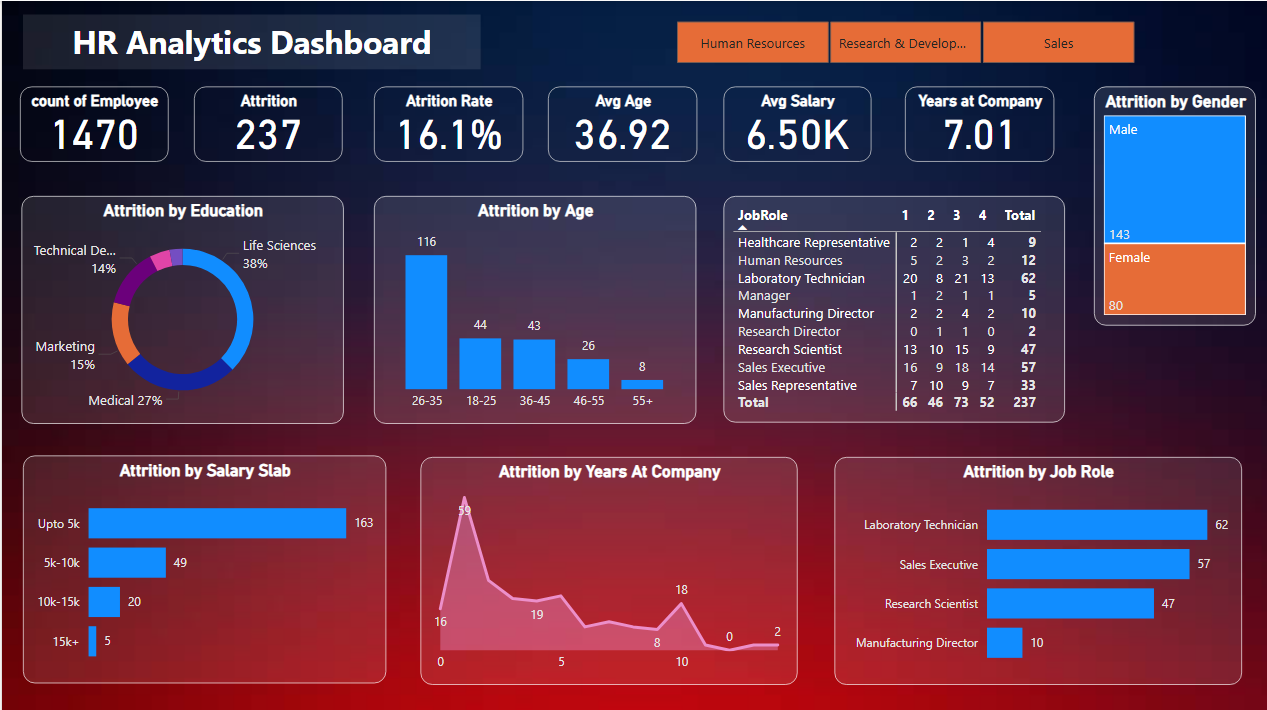

Layout of this report page (visuals, bound fields, positions):
{"tool":"powerbi","page":{"name":"Page 1","canvas":[1280,720],"ordinal":0},"visuals":[{"type":"card","title":"count of Employee","fields":{"Values":["CountNonNull(HR_Analytics.EmpID)"]},"box":[18.6,86.1,149.9,75.7],"z":0},{"type":"card","title":"Attrition","fields":{"Values":["Sum(HR_Analytics.Attritioncount)"]},"box":[194.3,86.1,149.9,75.7],"z":1000},{"type":"card","title":"Atrition Rate","fields":{"Values":["HR_Analytics.Attritionrate"]},"box":[376.2,85.7,150.8,76.2],"z":2000},{"type":"card","title":"Avg Age","fields":{"Values":["Avg(HR_Analytics.Age)"]},"box":[550.8,85.7,150.8,76.2],"z":3000},{"type":"card","title":"Years at Company","fields":{"Values":["Avg(HR_Analytics.YearsAtCompany)"]},"box":[911.1,85.7,150.8,76.2],"z":4000},{"type":"card","title":"Avg Salary","fields":{"Values":["Avg(HR_Analytics.MonthlyIncome)"]},"box":[728.6,85.7,149.2,76.2],"z":5000},{"type":"donutChart","title":"Attrition by Education","fields":{"Category":["HR_Analytics.EducationField"],"Y":["Sum(HR_Analytics.Attritioncount)"]},"box":[19,196.8,325.4,230.2],"z":6000},{"type":"columnChart","title":"Attrition by Age","fields":{"Category":["HR_Analytics.AgeGroup"],"Y":["Sum(HR_Analytics.Attritioncount)"]},"box":[376.2,196.8,325.4,230.2],"z":7000},{"type":"pivotTable","fields":{"Rows":["HR_Analytics.JobRole"],"Columns":["HR_Analytics.JobSatisfaction"],"Values":["Sum(HR_Analytics.Attritioncount)"]},"box":[728.6,196.8,344.4,228.6],"z":7001},{"type":"barChart","title":"Attrition by Salary Slab","fields":{"Category":["HR_Analytics.SalarySlab"],"Y":["Sum(HR_Analytics.Attritioncount)"]},"box":[20.6,458.7,366.7,230.2],"z":7002},{"type":"barChart","title":"Attrition by Job Role","fields":{"Y":["Sum(HR_Analytics.Attritioncount)"],"Category":["HR_Analytics.JobRole"]},"box":[839.7,460.3,411.1,230.2],"z":7003},{"type":"areaChart","title":"Attrition by Years At Company","fields":{"Category":["HR_Analytics.YearsAtCompany"],"Y":["Sum(HR_Analytics.Attritioncount)"]},"box":[422.2,460.3,381,230.2],"z":7004},{"type":"treemap","title":"Attrition by Gender","fields":{"Group":["HR_Analytics.Gender"],"Values":["Sum(HR_Analytics.Attritioncount)"]},"box":[1101.6,85.7,163.5,241.3],"z":7005},{"type":"slicer","fields":{"Values":["HR_Analytics.Department"]},"box":[655.6,14.3,511.1,55.6],"z":7006},{"type":"textbox","box":[20.6,14.3,461.9,55.6],"z":7007}]}

Visuals, with their boxes in screenshot pixels (x1, y1, x2, y2), scaled from the page's 1280x720 canvas onto the 1267x710 screenshot:
"count of Employee" card: detection(18, 85, 167, 160)
"Attrition" card: detection(192, 85, 341, 160)
"Atrition Rate" card: detection(372, 85, 522, 160)
"Avg Age" card: detection(545, 85, 694, 160)
"Years at Company" card: detection(902, 85, 1051, 160)
"Avg Salary" card: detection(721, 85, 869, 160)
"Attrition by Education" donutChart: detection(19, 194, 341, 421)
"Attrition by Age" columnChart: detection(372, 194, 694, 421)
pivotTable - HR_Analytics.JobRole x HR_Analytics.JobSatisfaction: detection(721, 194, 1062, 419)
"Attrition by Salary Slab" barChart: detection(20, 452, 383, 679)
"Attrition by Job Role" barChart: detection(831, 454, 1238, 681)
"Attrition by Years At Company" areaChart: detection(418, 454, 795, 681)
"Attrition by Gender" treemap: detection(1090, 85, 1252, 322)
slicer - HR_Analytics.Department: detection(649, 14, 1155, 69)
textbox: detection(20, 14, 478, 69)
